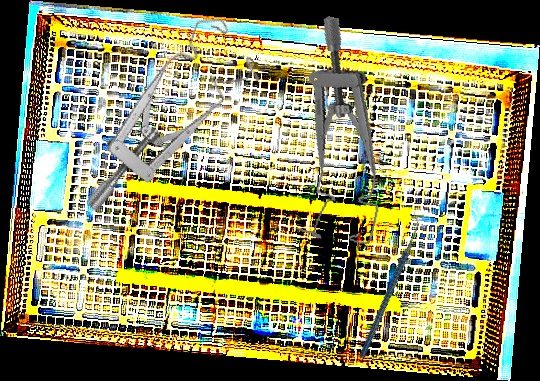Chopper: (317, 210, 461, 360)
Speculum: (36, 5, 284, 216), (276, 14, 417, 250)
